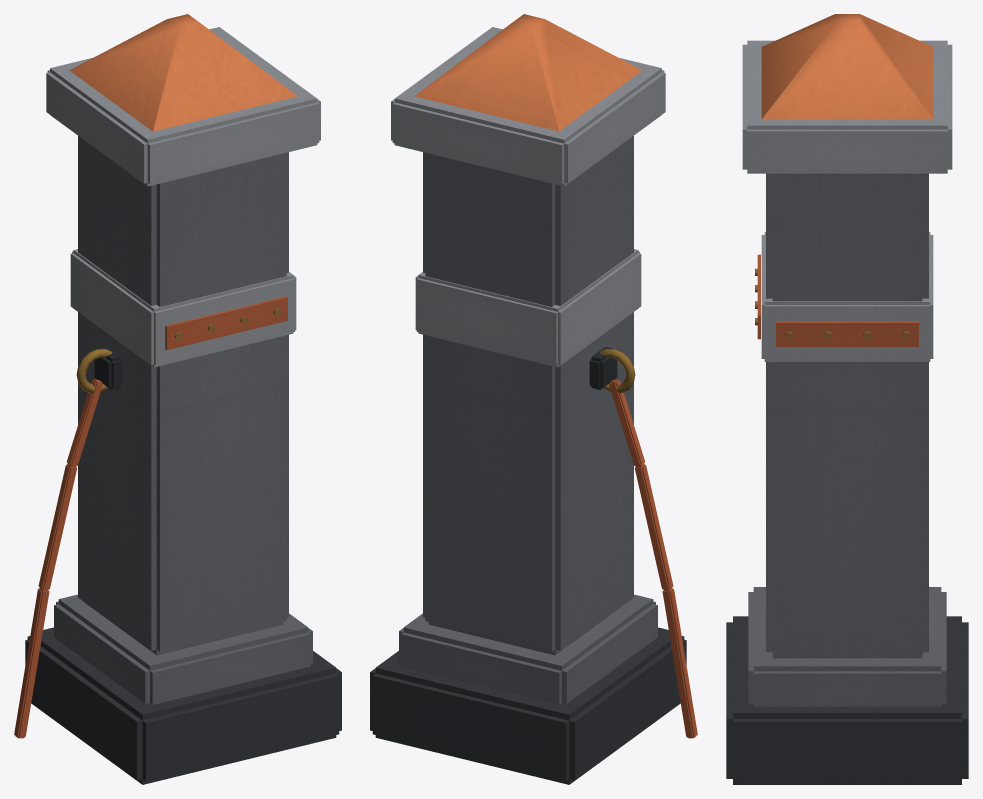
File: gate_quarry_post.glb
3 renders of one model, left to right at view 1: azimuth 30°, elevation 25°; view 2: azimuth 150°, elevation 25°; view 3: azimuth 270°, elevation 25°, orthographic. The views are drawn at different scales.
Visible parts, largest first — view 1: gate_quarry_post; view 2: gate_quarry_post; view 3: gate_quarry_post.
Boxes of the visible parts, x1,y1,x2,y2 form: gate_quarry_post: (14, 14, 341, 784); gate_quarry_post: (370, 14, 697, 784); gate_quarry_post: (726, 14, 968, 784).
Size of the model in its own units: 1.45 by 3.59 by 1.1.
1 material, 1 textured.
